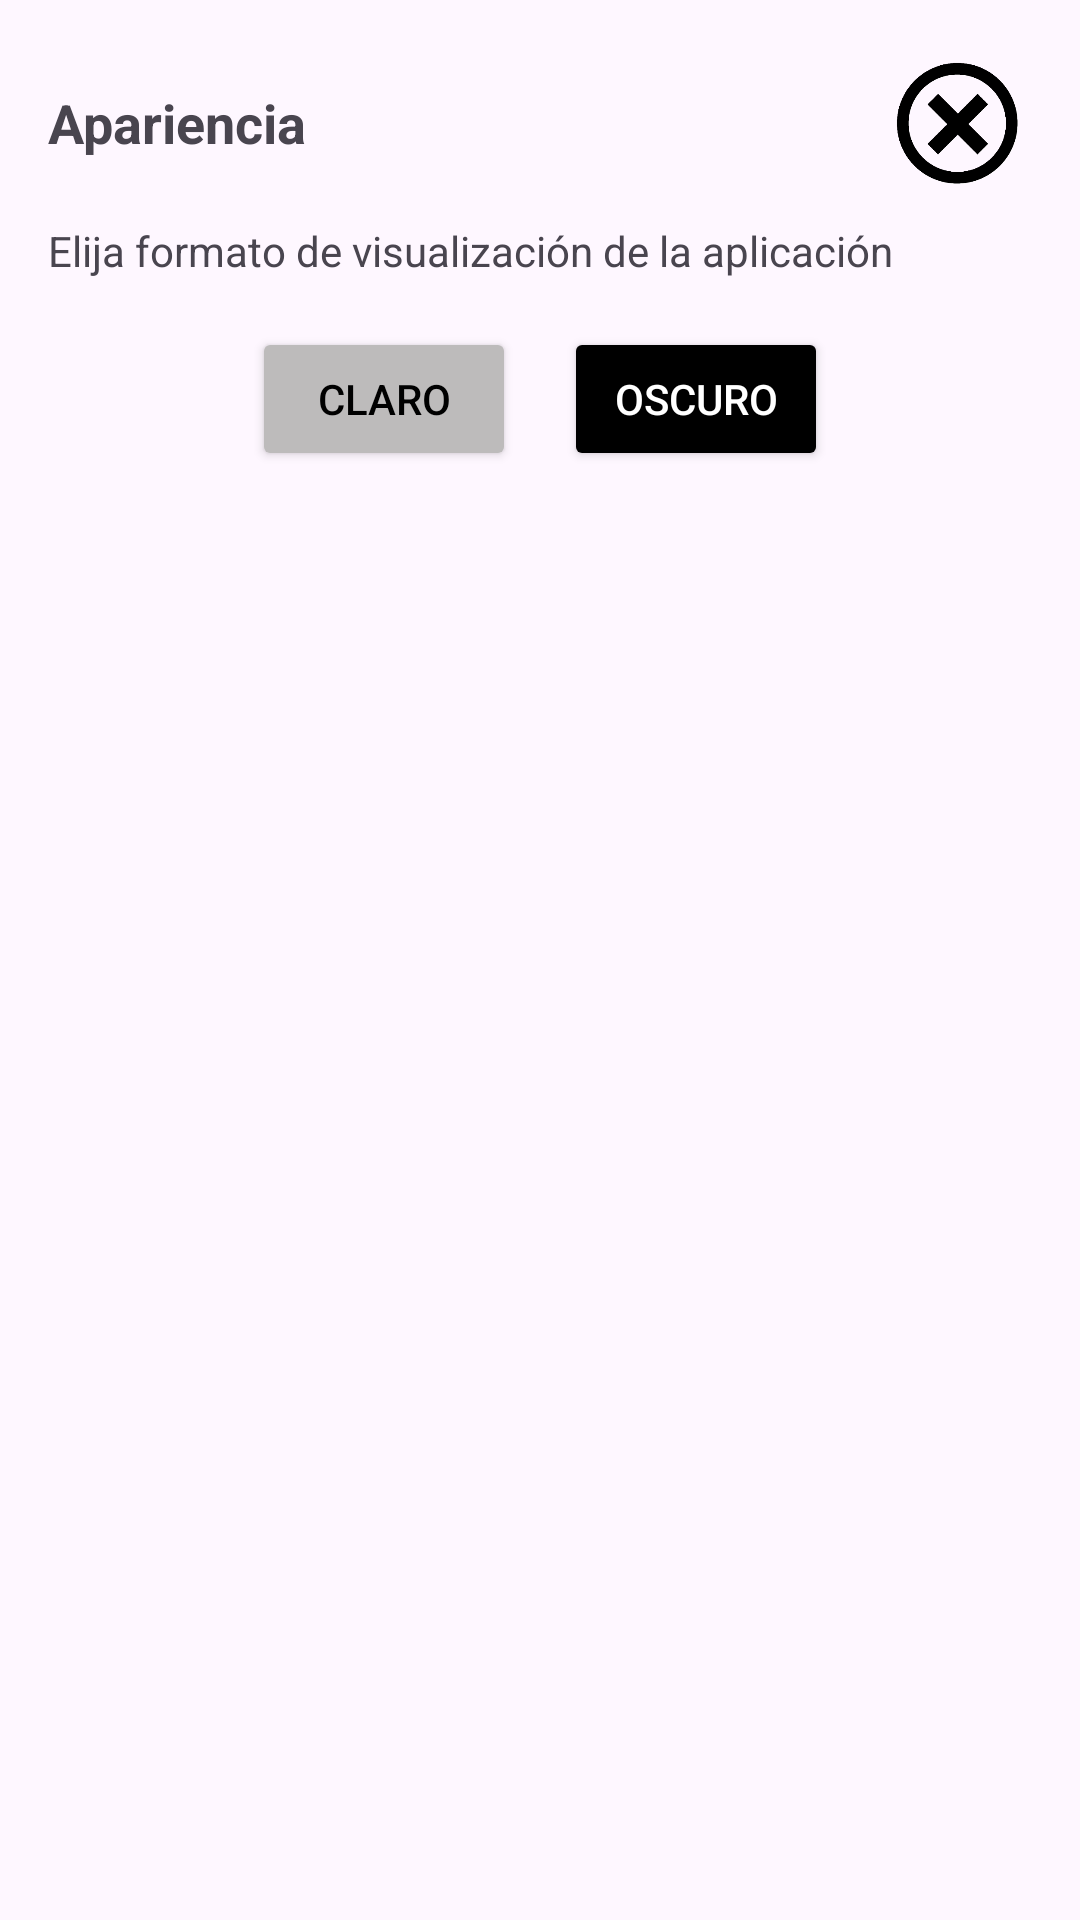

Icons on this 1080 × 1920 Android screen, each with its box as [x1,y1,x2,y2]:
Cerrar: [897,63,1018,184]
